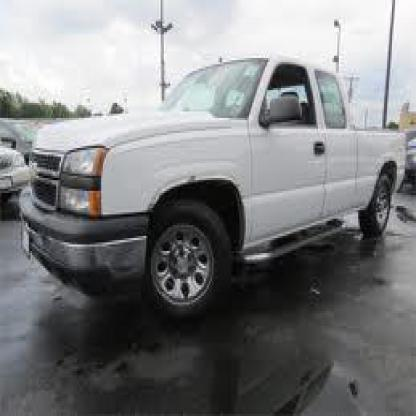Vehicle: (21, 69, 406, 322)
